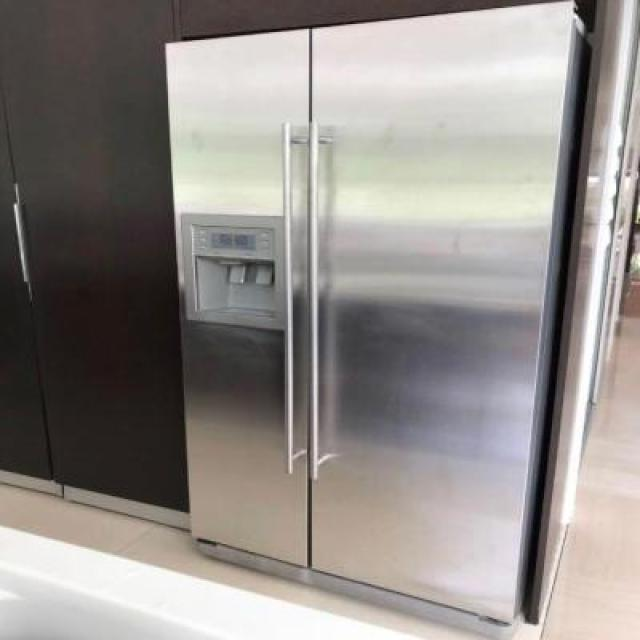refrigerator: (164, 0, 580, 630)
